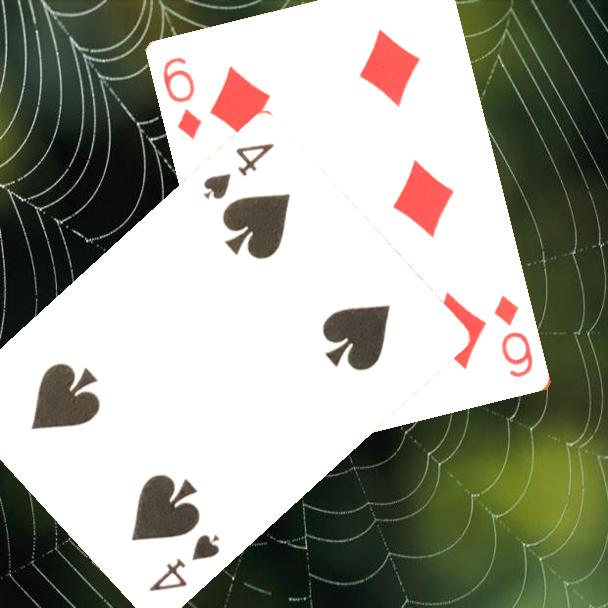d06: (159, 54, 206, 144), (491, 291, 537, 381)
s04: (145, 529, 223, 594), (199, 138, 278, 202)
